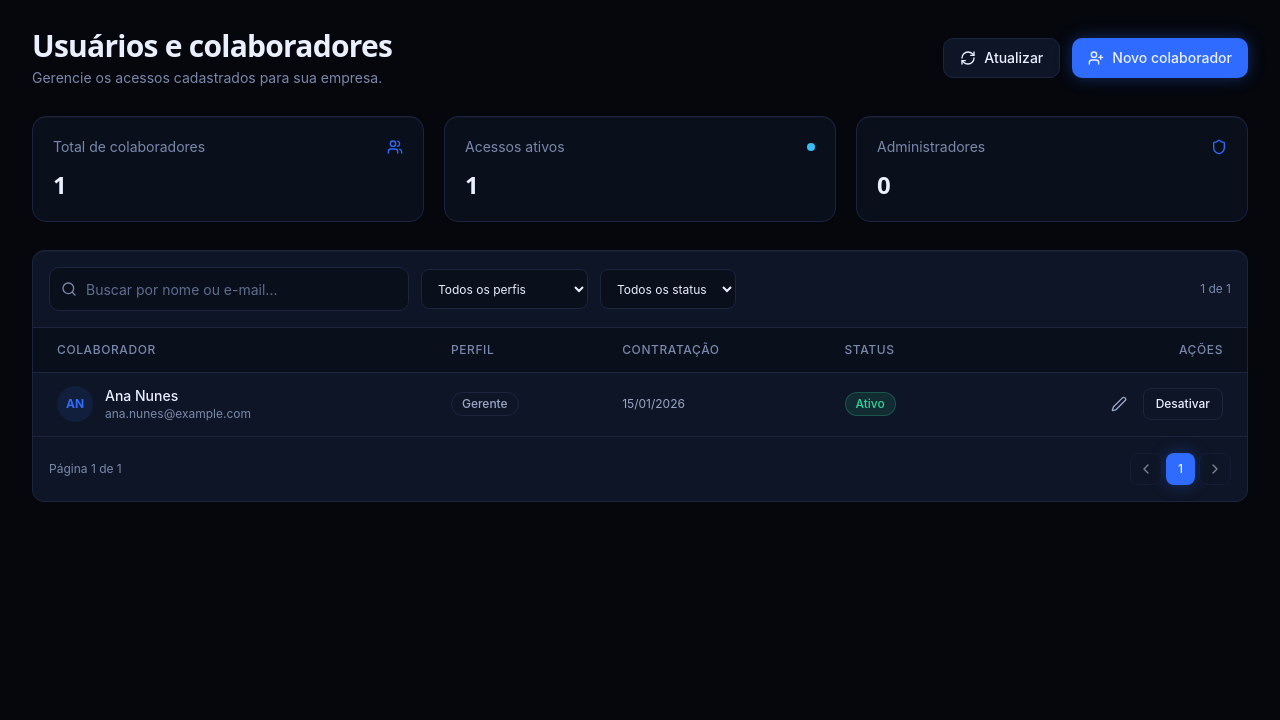
Test case: company users and workspace integrations › sends collaborator creation data through the form and API
Expected: the text "Ana Nunes" is shown, [105,387,178,404]
Click the button "Novo colaborador": (1160, 58) [1072,38,1248,78]
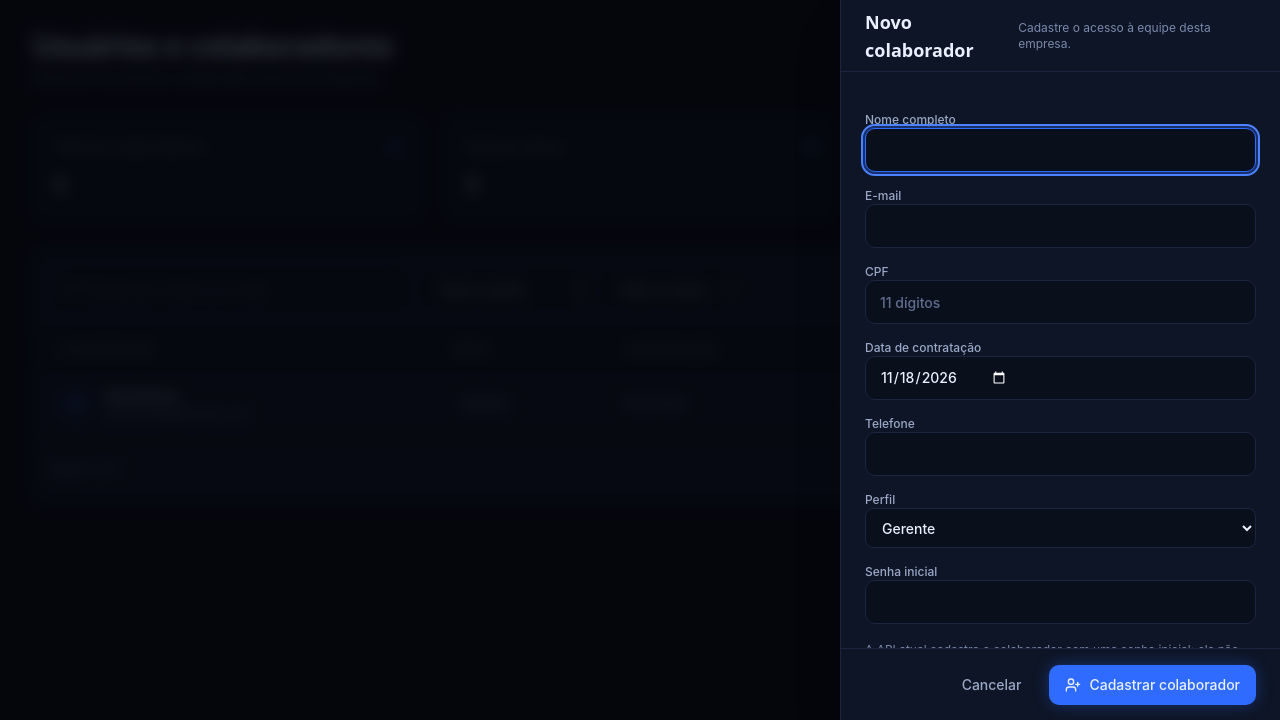
In the field labelled "Nome completo": (1060, 150) [865,128,1256,172], type "Bruno Reis"
In the field labelled "E-mail": (1060, 226) [865,204,1256,248], type "bruno@example.com"
In the field labelled "CPF": (1060, 302) [865,280,1256,324], type "98765432100"
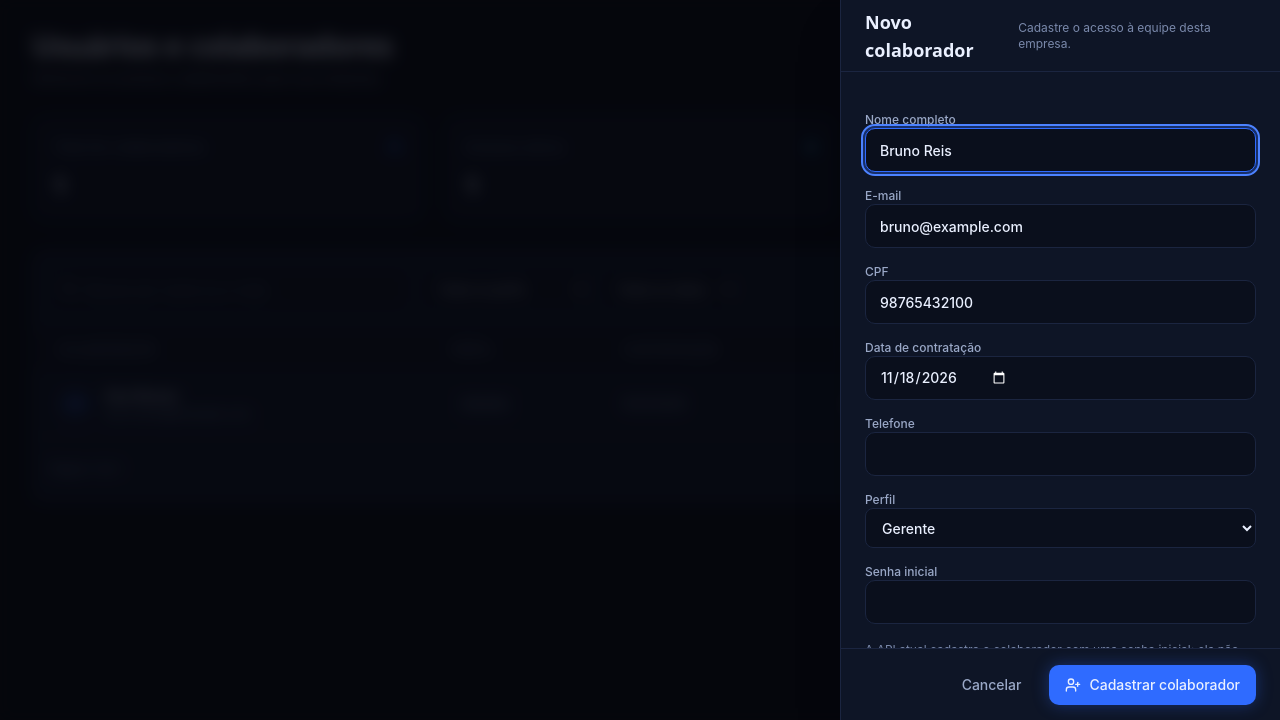
In the date field labelled "Data de contratação": (1060, 378) [865,356,1256,400], type "2026-11-15"
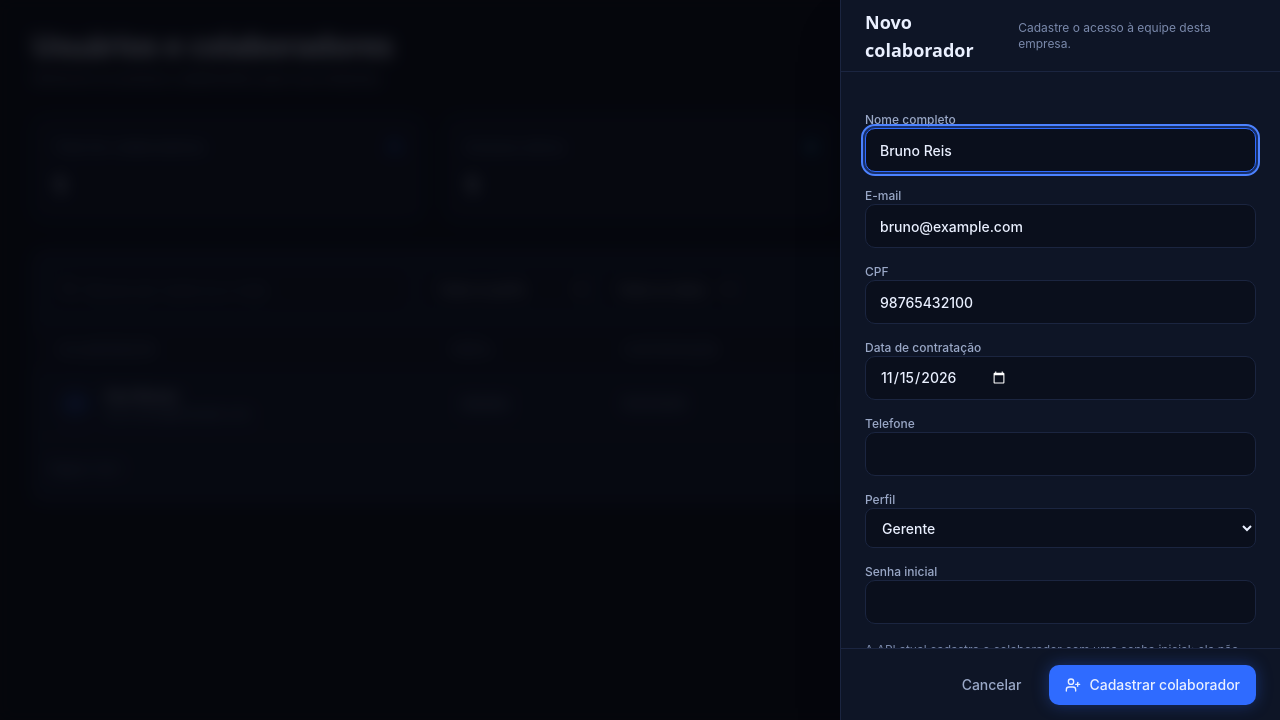
Select "Operador / Vendedor" in the dropdown labelled "Perfil": (1060, 528) [865,508,1256,548]
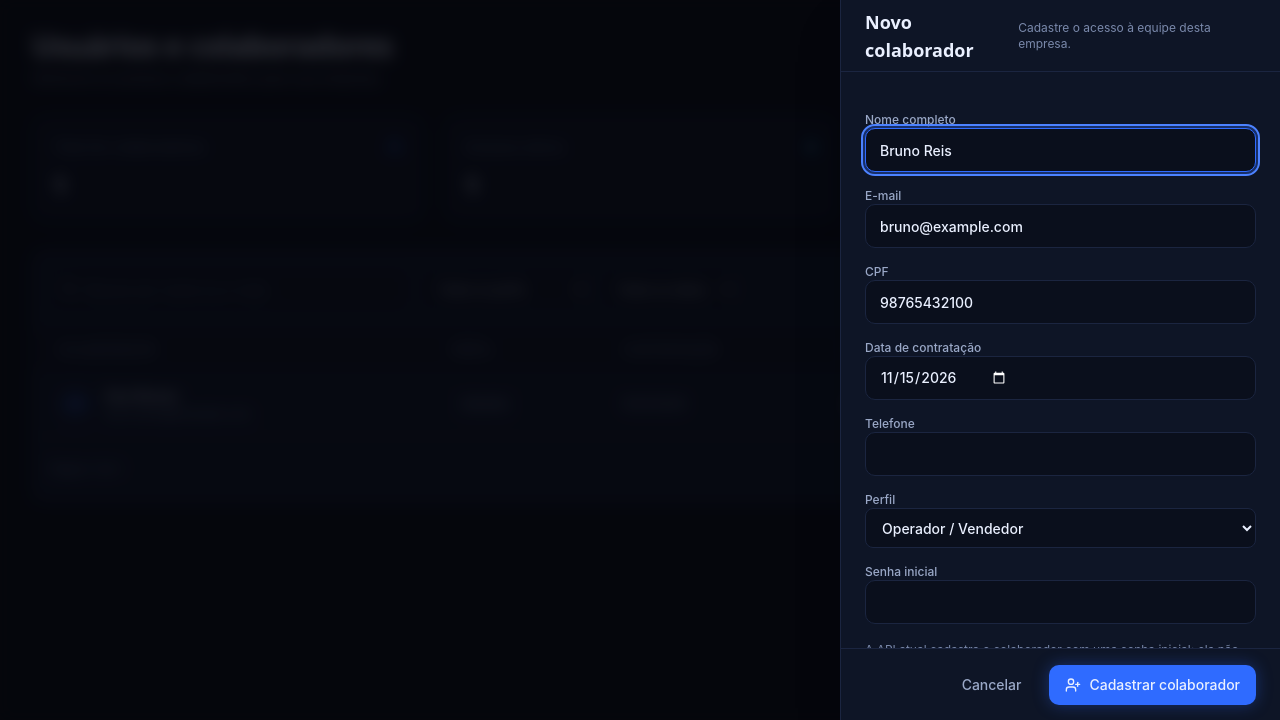
In the password field labelled "Senha inicial": (1060, 602) [865,580,1256,624], type "senha-segura-123"
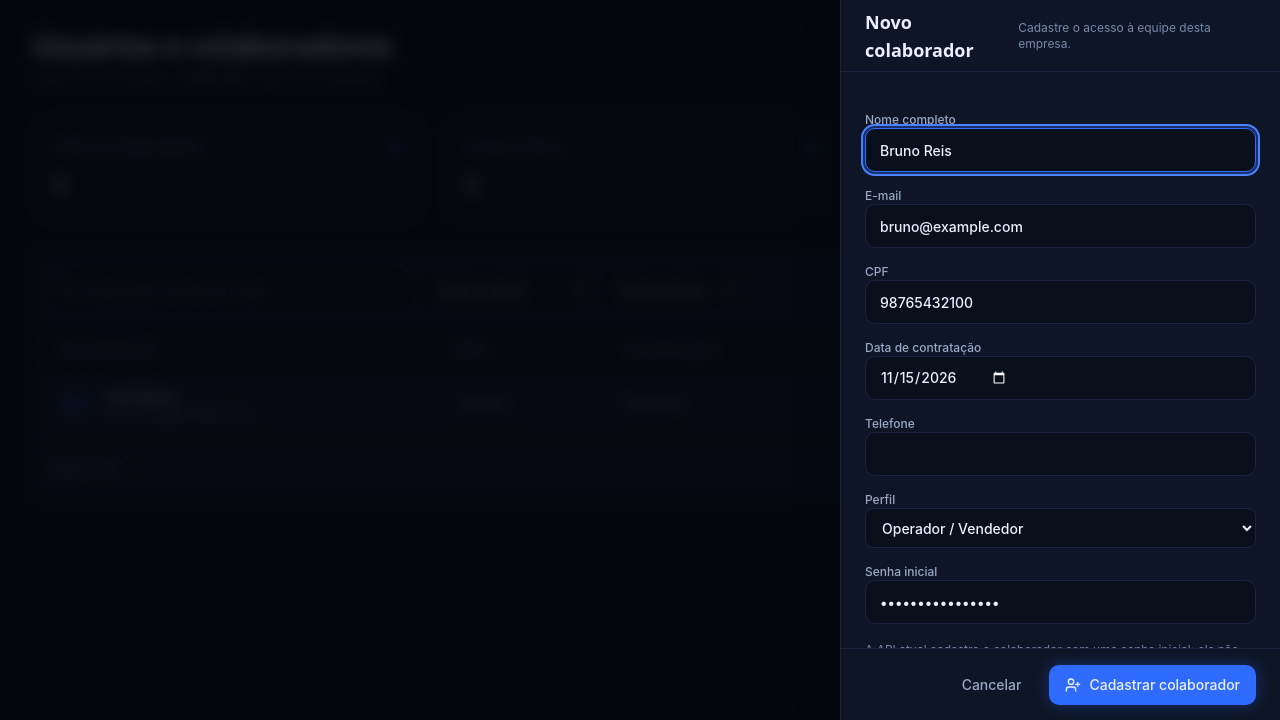
Click the button "Cadastrar colaborador": (1153, 684) [1050,664,1256,704]
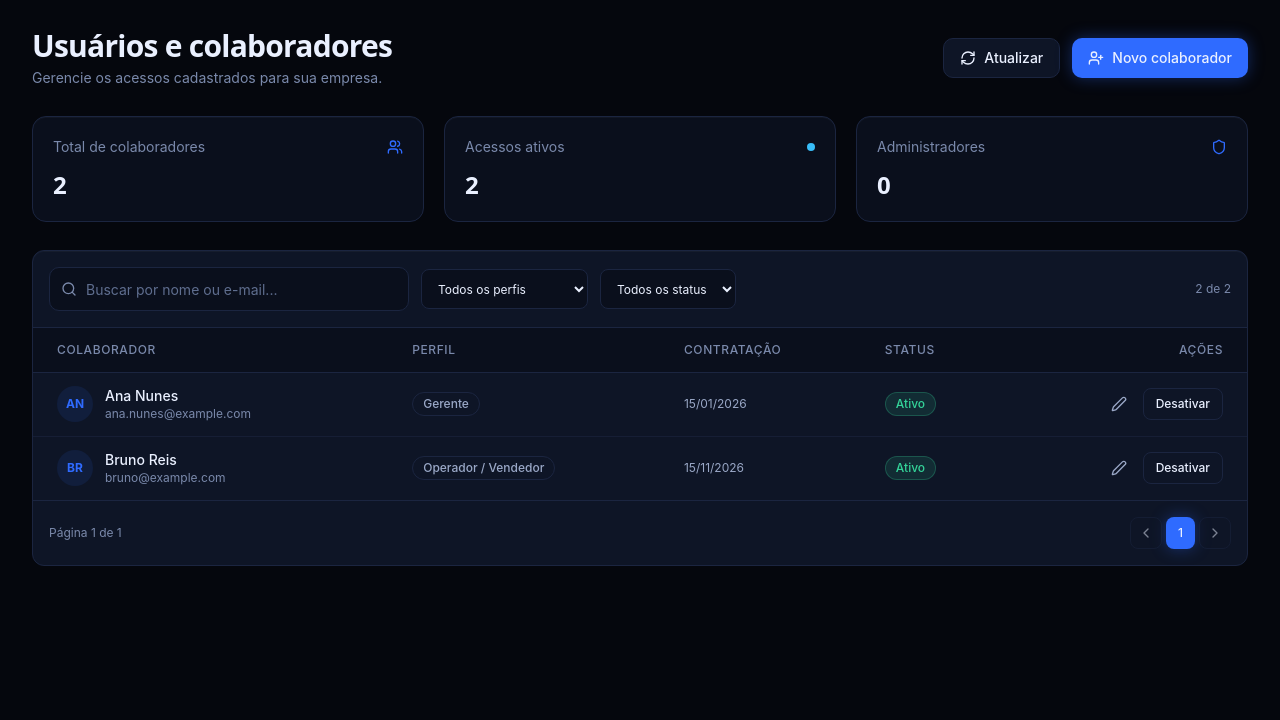
Now the text "Bruno Reis" is shown, box [105,451,177,468]
